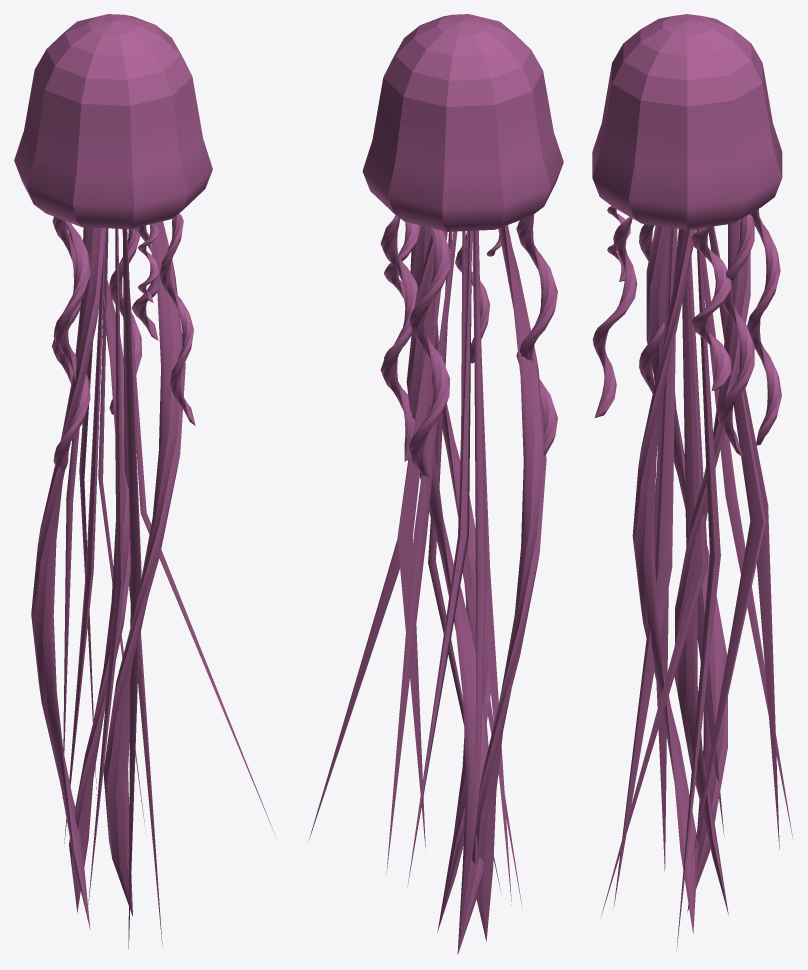
Rendered from jelly_f.fbx.
3 views of the same model, side by side, from view 1: azimuth 30°, elevation 25°; view 2: azimuth 150°, elevation 25°; view 3: azimuth 270°, elevation 25° (orthographic).
Visible parts, largest first — view 1: jellyfish; view 2: jellyfish; view 3: jellyfish.
Part boxes in pixels (x1,y1,x2,y2): jellyfish: (14,14,275,948); jellyfish: (308,14,563,954); jellyfish: (592,14,793,949).
Bounding box in the file's own units: 0.4839 × 1.7 × 0.3428.
